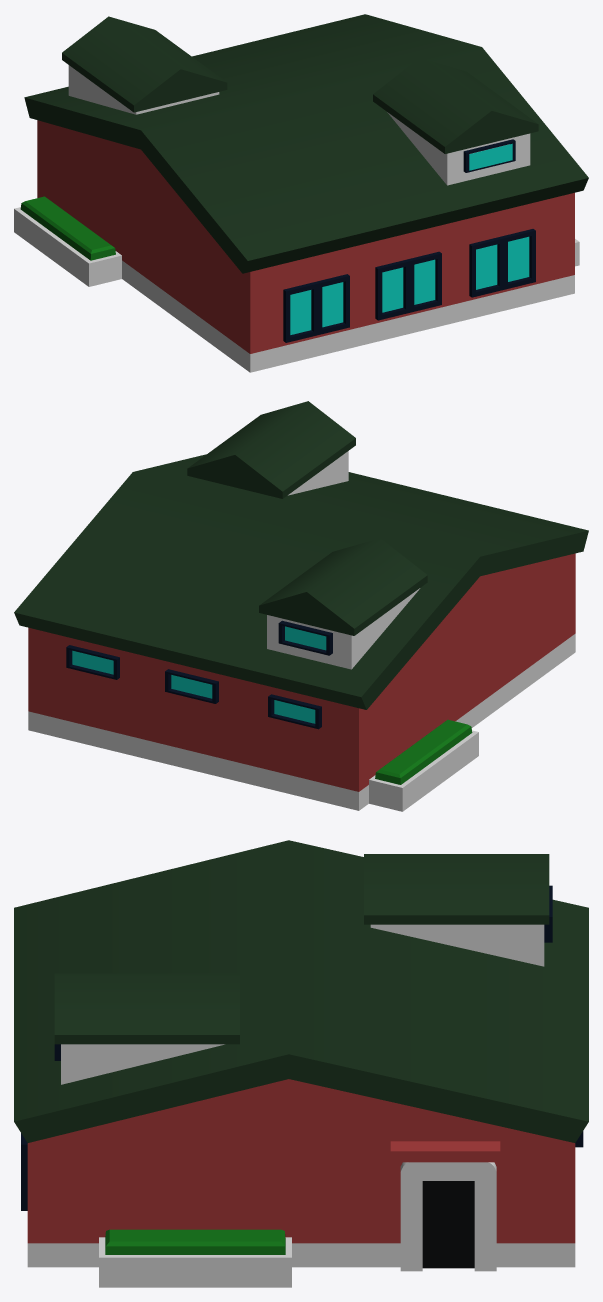
The model's file is House_11.fbx.
3 renders of one model, top to bottom at view 1: azimuth 30°, elevation 25°; view 2: azimuth 150°, elevation 25°; view 3: azimuth 270°, elevation 25°, orthographic. The views are drawn at different scales.
Visible parts, largest first — view 1: House_11; view 2: House_11; view 3: House_11.
Part boxes in pixels (x1,y1,x2,y2): House_11: (14,14,588,372); House_11: (14,401,588,811); House_11: (14,840,588,1287).
Bounding box in the file's own units: 57.45 × 27.14 × 57.02.
